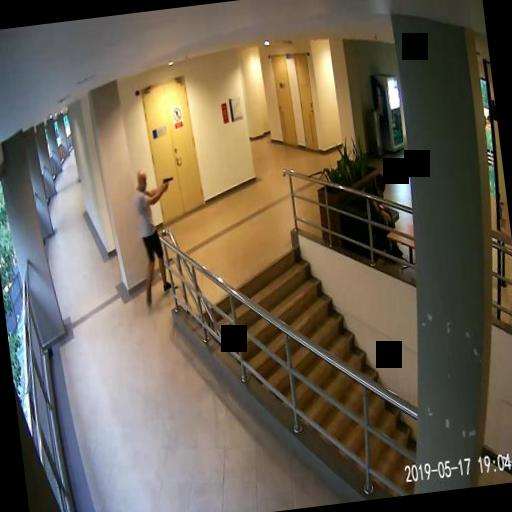Handgun: (160, 175, 174, 190)
